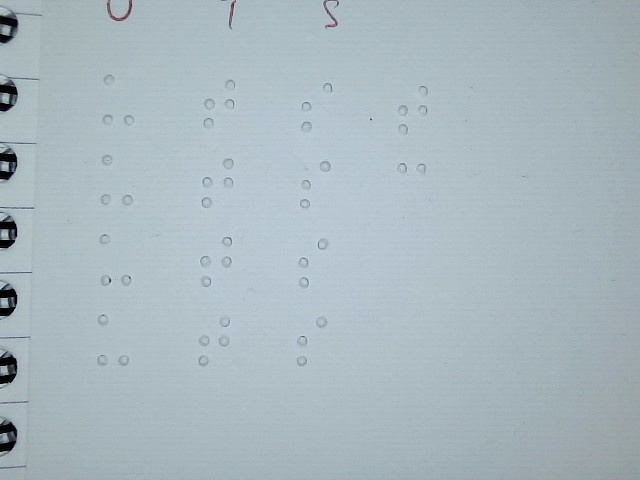S: (299, 79, 334, 133), (298, 157, 333, 211), (295, 235, 330, 289), (294, 313, 329, 367)
T: (202, 76, 237, 130), (200, 155, 235, 209), (198, 234, 233, 288), (196, 313, 231, 367)
U: (101, 72, 136, 126), (99, 152, 134, 206), (98, 232, 133, 286), (95, 312, 130, 366)
